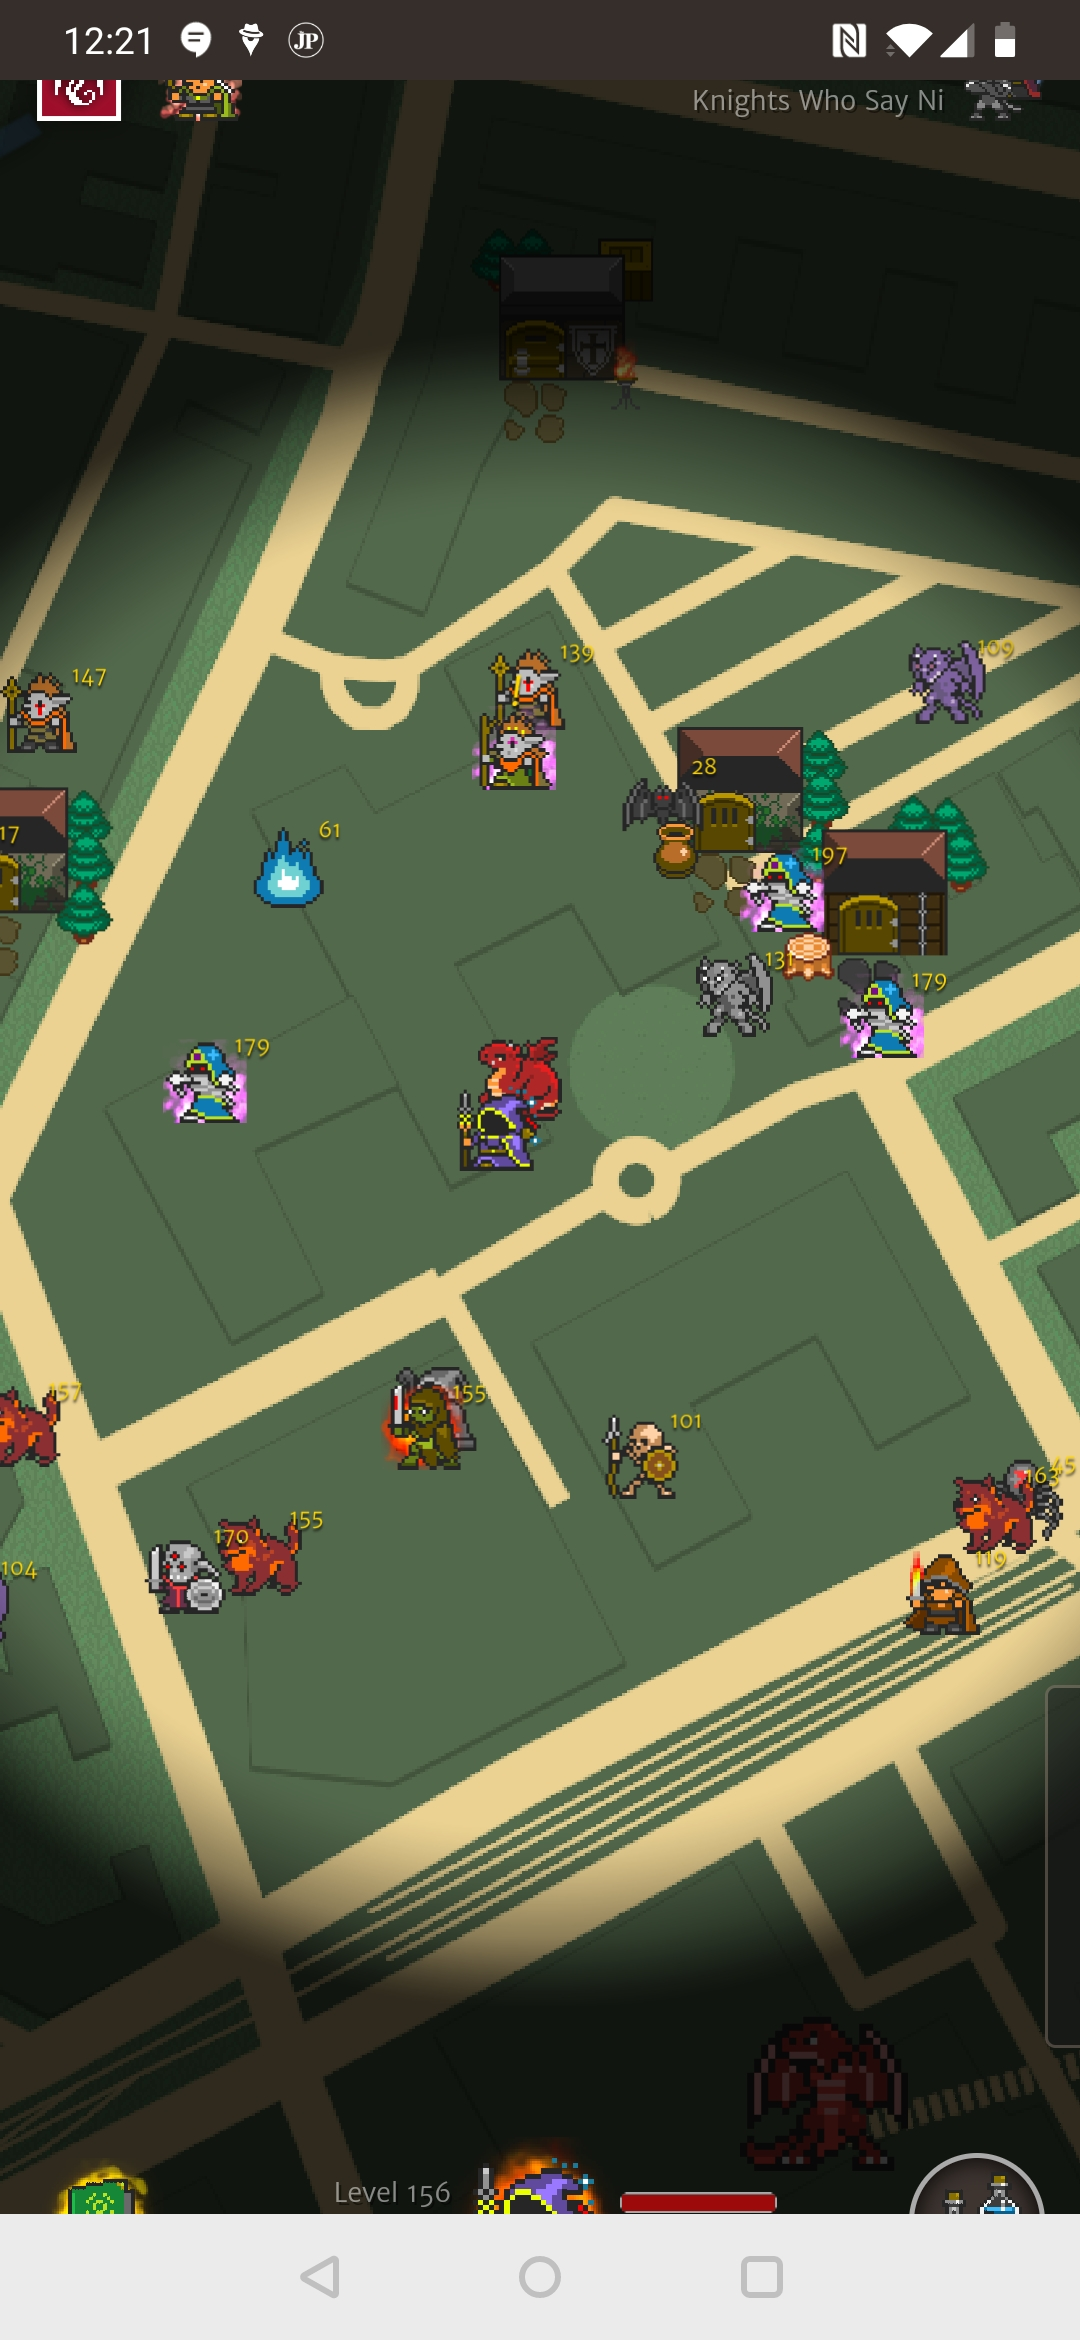monster: (146, 1020, 280, 1140), (895, 635, 1031, 745), (597, 1407, 713, 1520), (372, 1386, 495, 1484), (485, 640, 610, 730), (149, 1527, 254, 1632), (254, 812, 359, 917), (687, 950, 800, 1048), (1, 661, 121, 749), (903, 1550, 1010, 1643), (951, 1468, 1064, 1555), (223, 1507, 328, 1599)
player: (453, 1089, 536, 1189)
